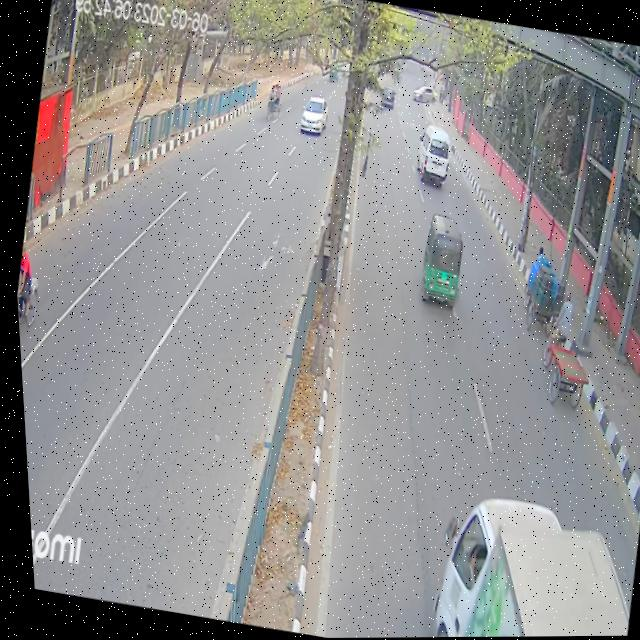cng: (402, 208, 472, 325)
rikshaw: (260, 78, 284, 122)
